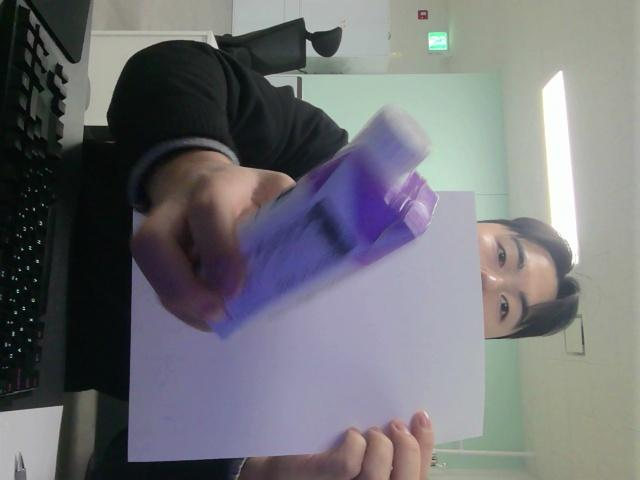milk: (213, 107, 438, 337)
